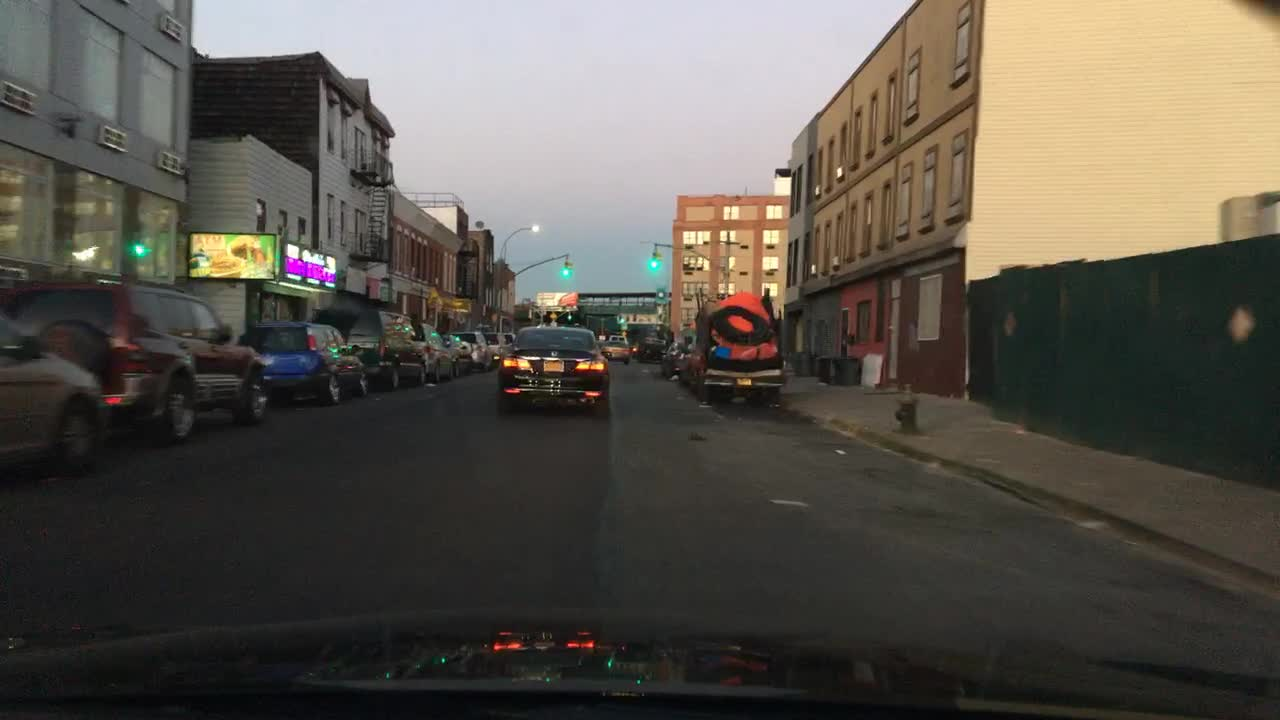car: (0, 276, 271, 444), (0, 306, 110, 479), (235, 315, 368, 401), (495, 324, 610, 421), (315, 310, 432, 390), (411, 321, 457, 378), (450, 330, 493, 365), (438, 339, 477, 375), (665, 336, 696, 378), (633, 335, 665, 362), (483, 332, 503, 369), (604, 341, 632, 365), (497, 332, 518, 353)
traffic light: (131, 230, 143, 258), (561, 253, 570, 279), (650, 246, 659, 270), (616, 312, 626, 327), (564, 310, 573, 322)
truck: (693, 286, 788, 408)
